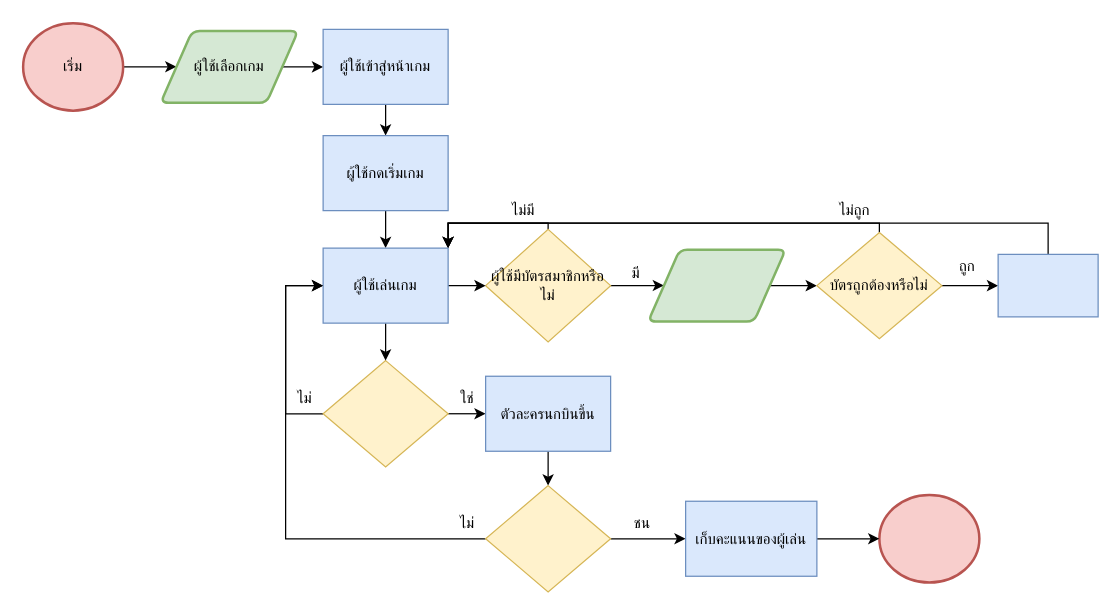
This 1120x614 diagram has some shape labels left out. Each missing label, with the centre of its shape:
จบ: the point at 929,538
นกชนสิ่งกีดขวางหรือไม่: the point at 547,538
บันทึกข้อมูล: the point at 1047,285
ผู้ใช้กดหน้าจอ หรือไม่: the point at 385,413
ผู้ใช้สแกนบัตร: the point at 716,285
